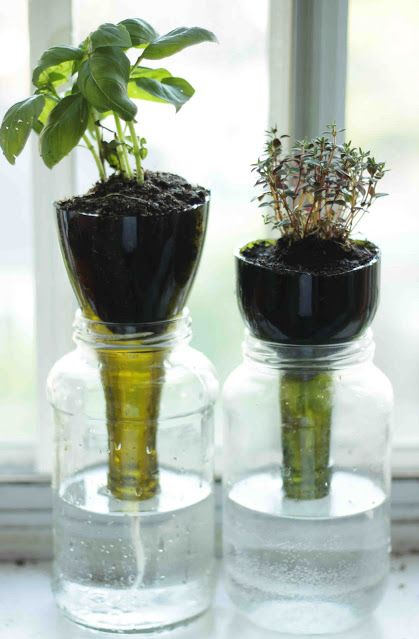glass_bottle: (44, 302, 219, 638), (217, 316, 395, 639)
